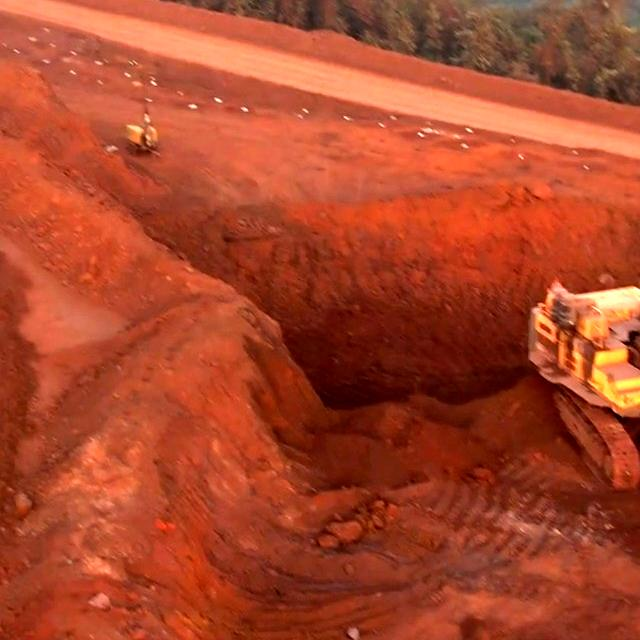Excavator: (545, 268, 640, 447)
